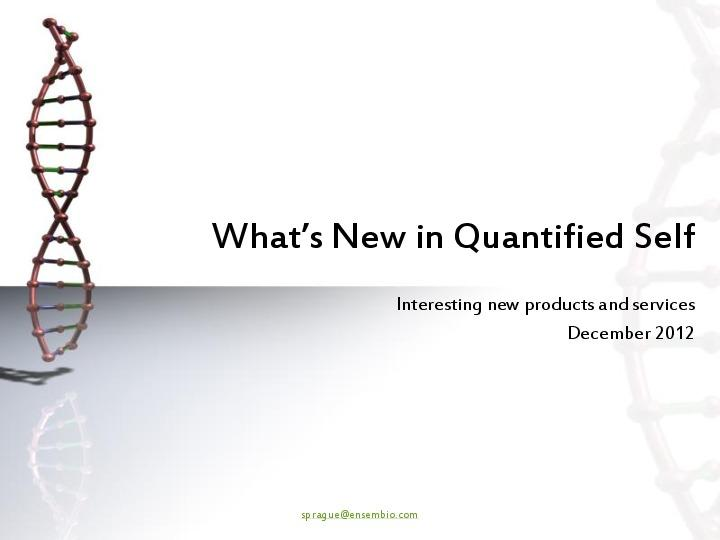subtitle: (382, 281, 712, 358)
title: (196, 188, 710, 274)
